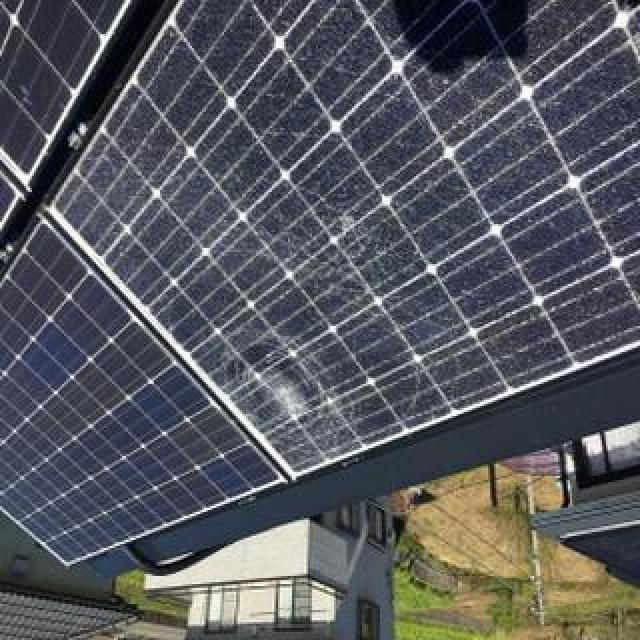cracked: (90, 2, 640, 474)
